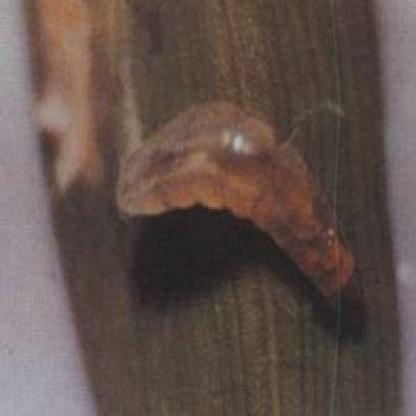whorl-maggot: (117, 93, 356, 310)
